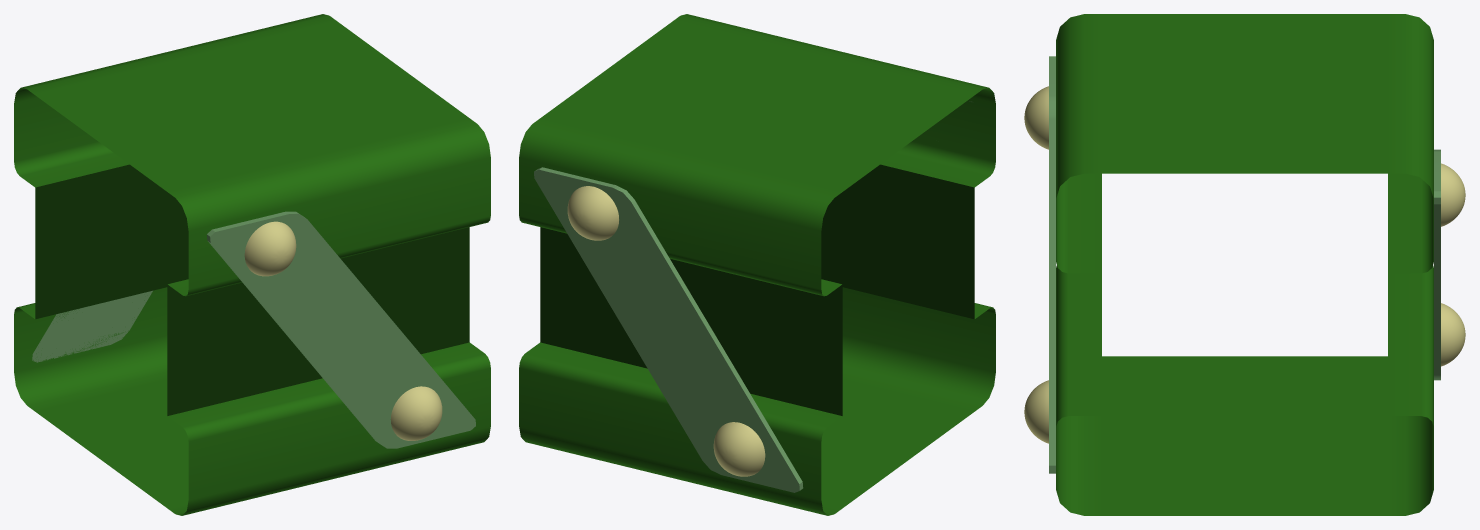
Rendered from a1_L_tekkotu.fbx.
The picture shows the model from 3 angles, left to right: view 1: azimuth 30°, elevation 25°; view 2: azimuth 150°, elevation 25°; view 3: azimuth 270°, elevation 25°; orthographic projection. The views are drawn at different scales.
Parts seen in each view (by area): view 1: R_tekkotu; view 2: R_tekkotu; view 3: R_tekkotu.
Boxes of the visible parts, box(x1,y1,x2,y2) form: R_tekkotu: box(14, 14, 490, 515); R_tekkotu: box(519, 14, 995, 515); R_tekkotu: box(1024, 14, 1465, 515).
Bounding box in the file's own units: 2 × 2 × 2.34.
